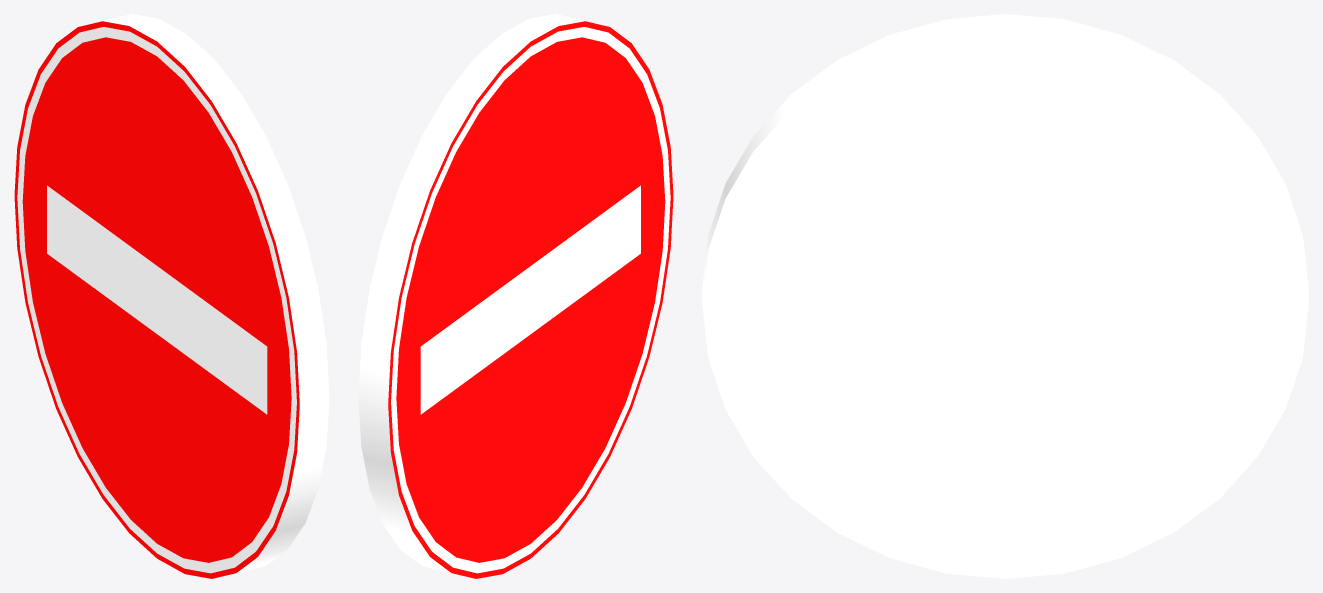
File: No_Entry.glb
The picture shows the model from 3 angles, left to right: view 1: azimuth 30°, elevation 25°; view 2: azimuth 150°, elevation 25°; view 3: azimuth 270°, elevation 25°; orthographic projection. The views are drawn at different scales.
Visible parts, largest first — view 1: No_Entry; view 2: No_Entry; view 3: No_Entry.
Part boxes in pixels (left/top/right/bottom): No_Entry: left=14, top=14, right=329, bottom=578; No_Entry: left=358, top=14, right=673, bottom=578; No_Entry: left=702, top=14, right=1308, bottom=578.
Bounding box in the file's own units: 0.06 × 1 × 1.
